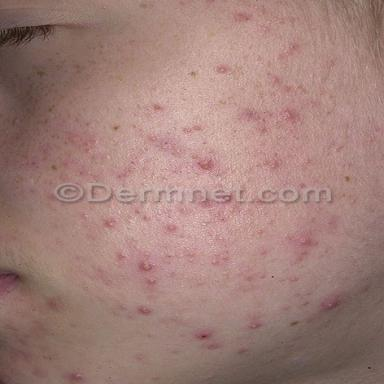acne: (320, 293, 341, 310), (276, 44, 298, 60), (280, 109, 299, 124), (239, 108, 260, 121), (263, 157, 281, 169), (67, 371, 85, 382), (47, 298, 63, 310), (300, 236, 317, 246), (233, 12, 251, 21), (204, 341, 221, 349), (138, 305, 152, 314), (215, 65, 229, 74), (104, 218, 117, 227), (198, 161, 212, 169), (196, 332, 211, 339), (140, 262, 153, 270), (161, 140, 172, 149), (145, 277, 156, 284), (272, 76, 280, 85), (237, 347, 247, 354), (117, 253, 127, 260), (249, 323, 260, 329), (257, 127, 267, 133), (284, 85, 292, 92), (288, 277, 299, 282), (192, 125, 201, 131), (148, 136, 157, 142), (153, 104, 162, 110), (168, 225, 176, 231), (136, 355, 144, 361), (326, 221, 335, 226), (302, 157, 309, 163), (143, 216, 151, 221), (245, 276, 253, 281), (212, 259, 219, 264), (184, 129, 192, 133), (259, 274, 265, 279), (82, 214, 88, 218), (261, 251, 267, 255), (135, 210, 140, 214), (180, 209, 185, 212)
